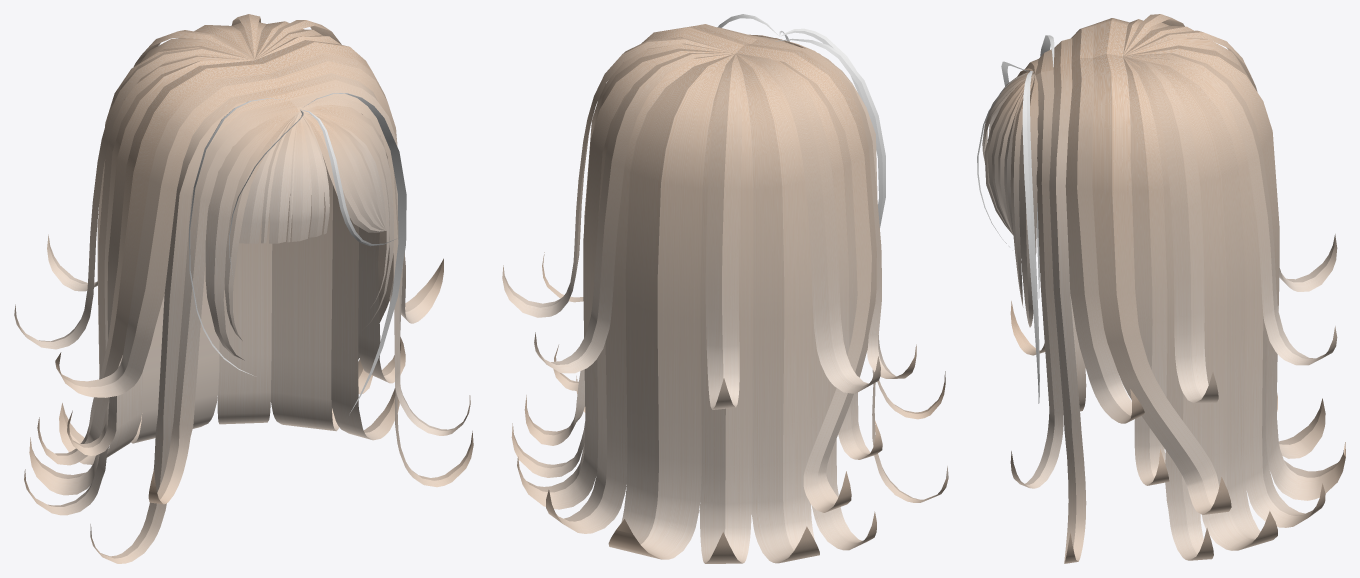
The picture shows the model from 3 angles, left to right: view 1: azimuth 30°, elevation 25°; view 2: azimuth 150°, elevation 25°; view 3: azimuth 270°, elevation 25°; orthographic projection. The views are drawn at different scales.
Parts seen in each view (by area): view 1: HairOriginal.002; view 2: HairOriginal.002; view 3: HairOriginal.002.
Boxes of the visible parts, x1,y1,x2,y2 form: HairOriginal.002: (14, 14, 473, 563); HairOriginal.002: (502, 14, 948, 563); HairOriginal.002: (977, 14, 1345, 563).
Bounding box in the file's own units: 2.27 × 2.55 × 1.93.
Materials: 1 (1 with a texture image).
